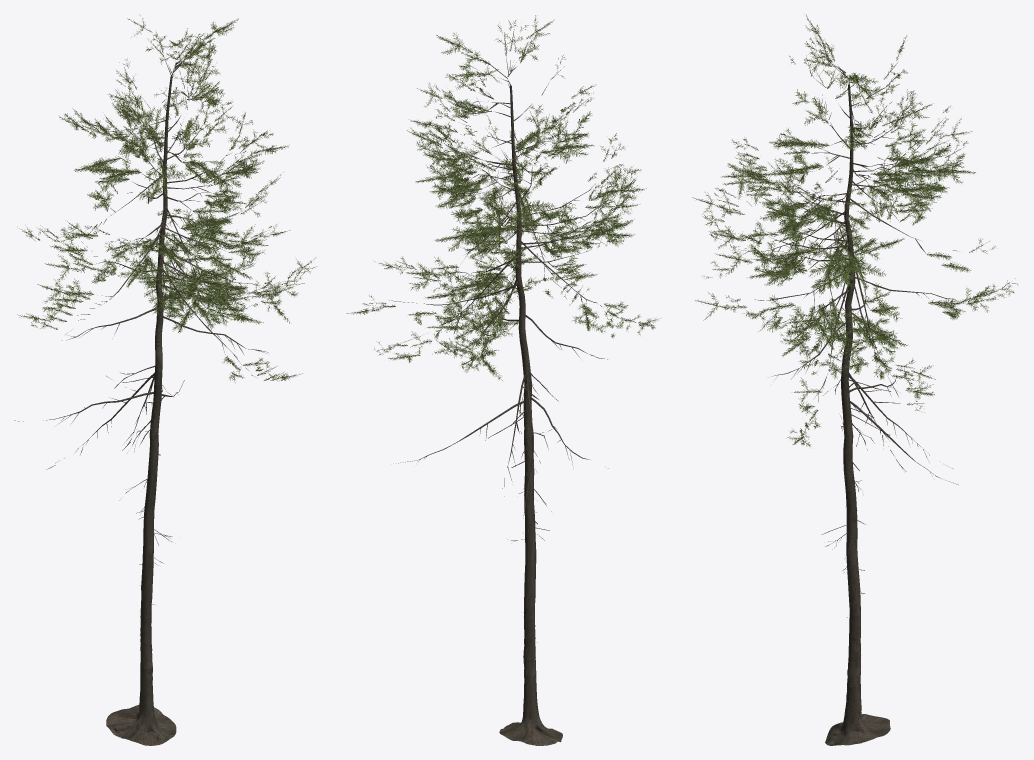
Rendered from fir-c68.glb.
3 views of the same model, side by side, from view 1: azimuth 30°, elevation 25°; view 2: azimuth 150°, elevation 25°; view 3: azimuth 270°, elevation 25° (orthographic). The views are drawn at different scales.
Visible parts, largest first — view 1: fir_tree_01_c_selected68; view 2: fir_tree_01_c_selected68; view 3: fir_tree_01_c_selected68.
Boxes of the visible parts, bbox=[...] form: fir_tree_01_c_selected68: bbox=[14, 15, 316, 745]; fir_tree_01_c_selected68: bbox=[346, 15, 660, 745]; fir_tree_01_c_selected68: bbox=[692, 15, 1017, 745].
Size of the model in its own units: 6.26 by 14.5 by 5.94.
4 materials, 4 textured.
